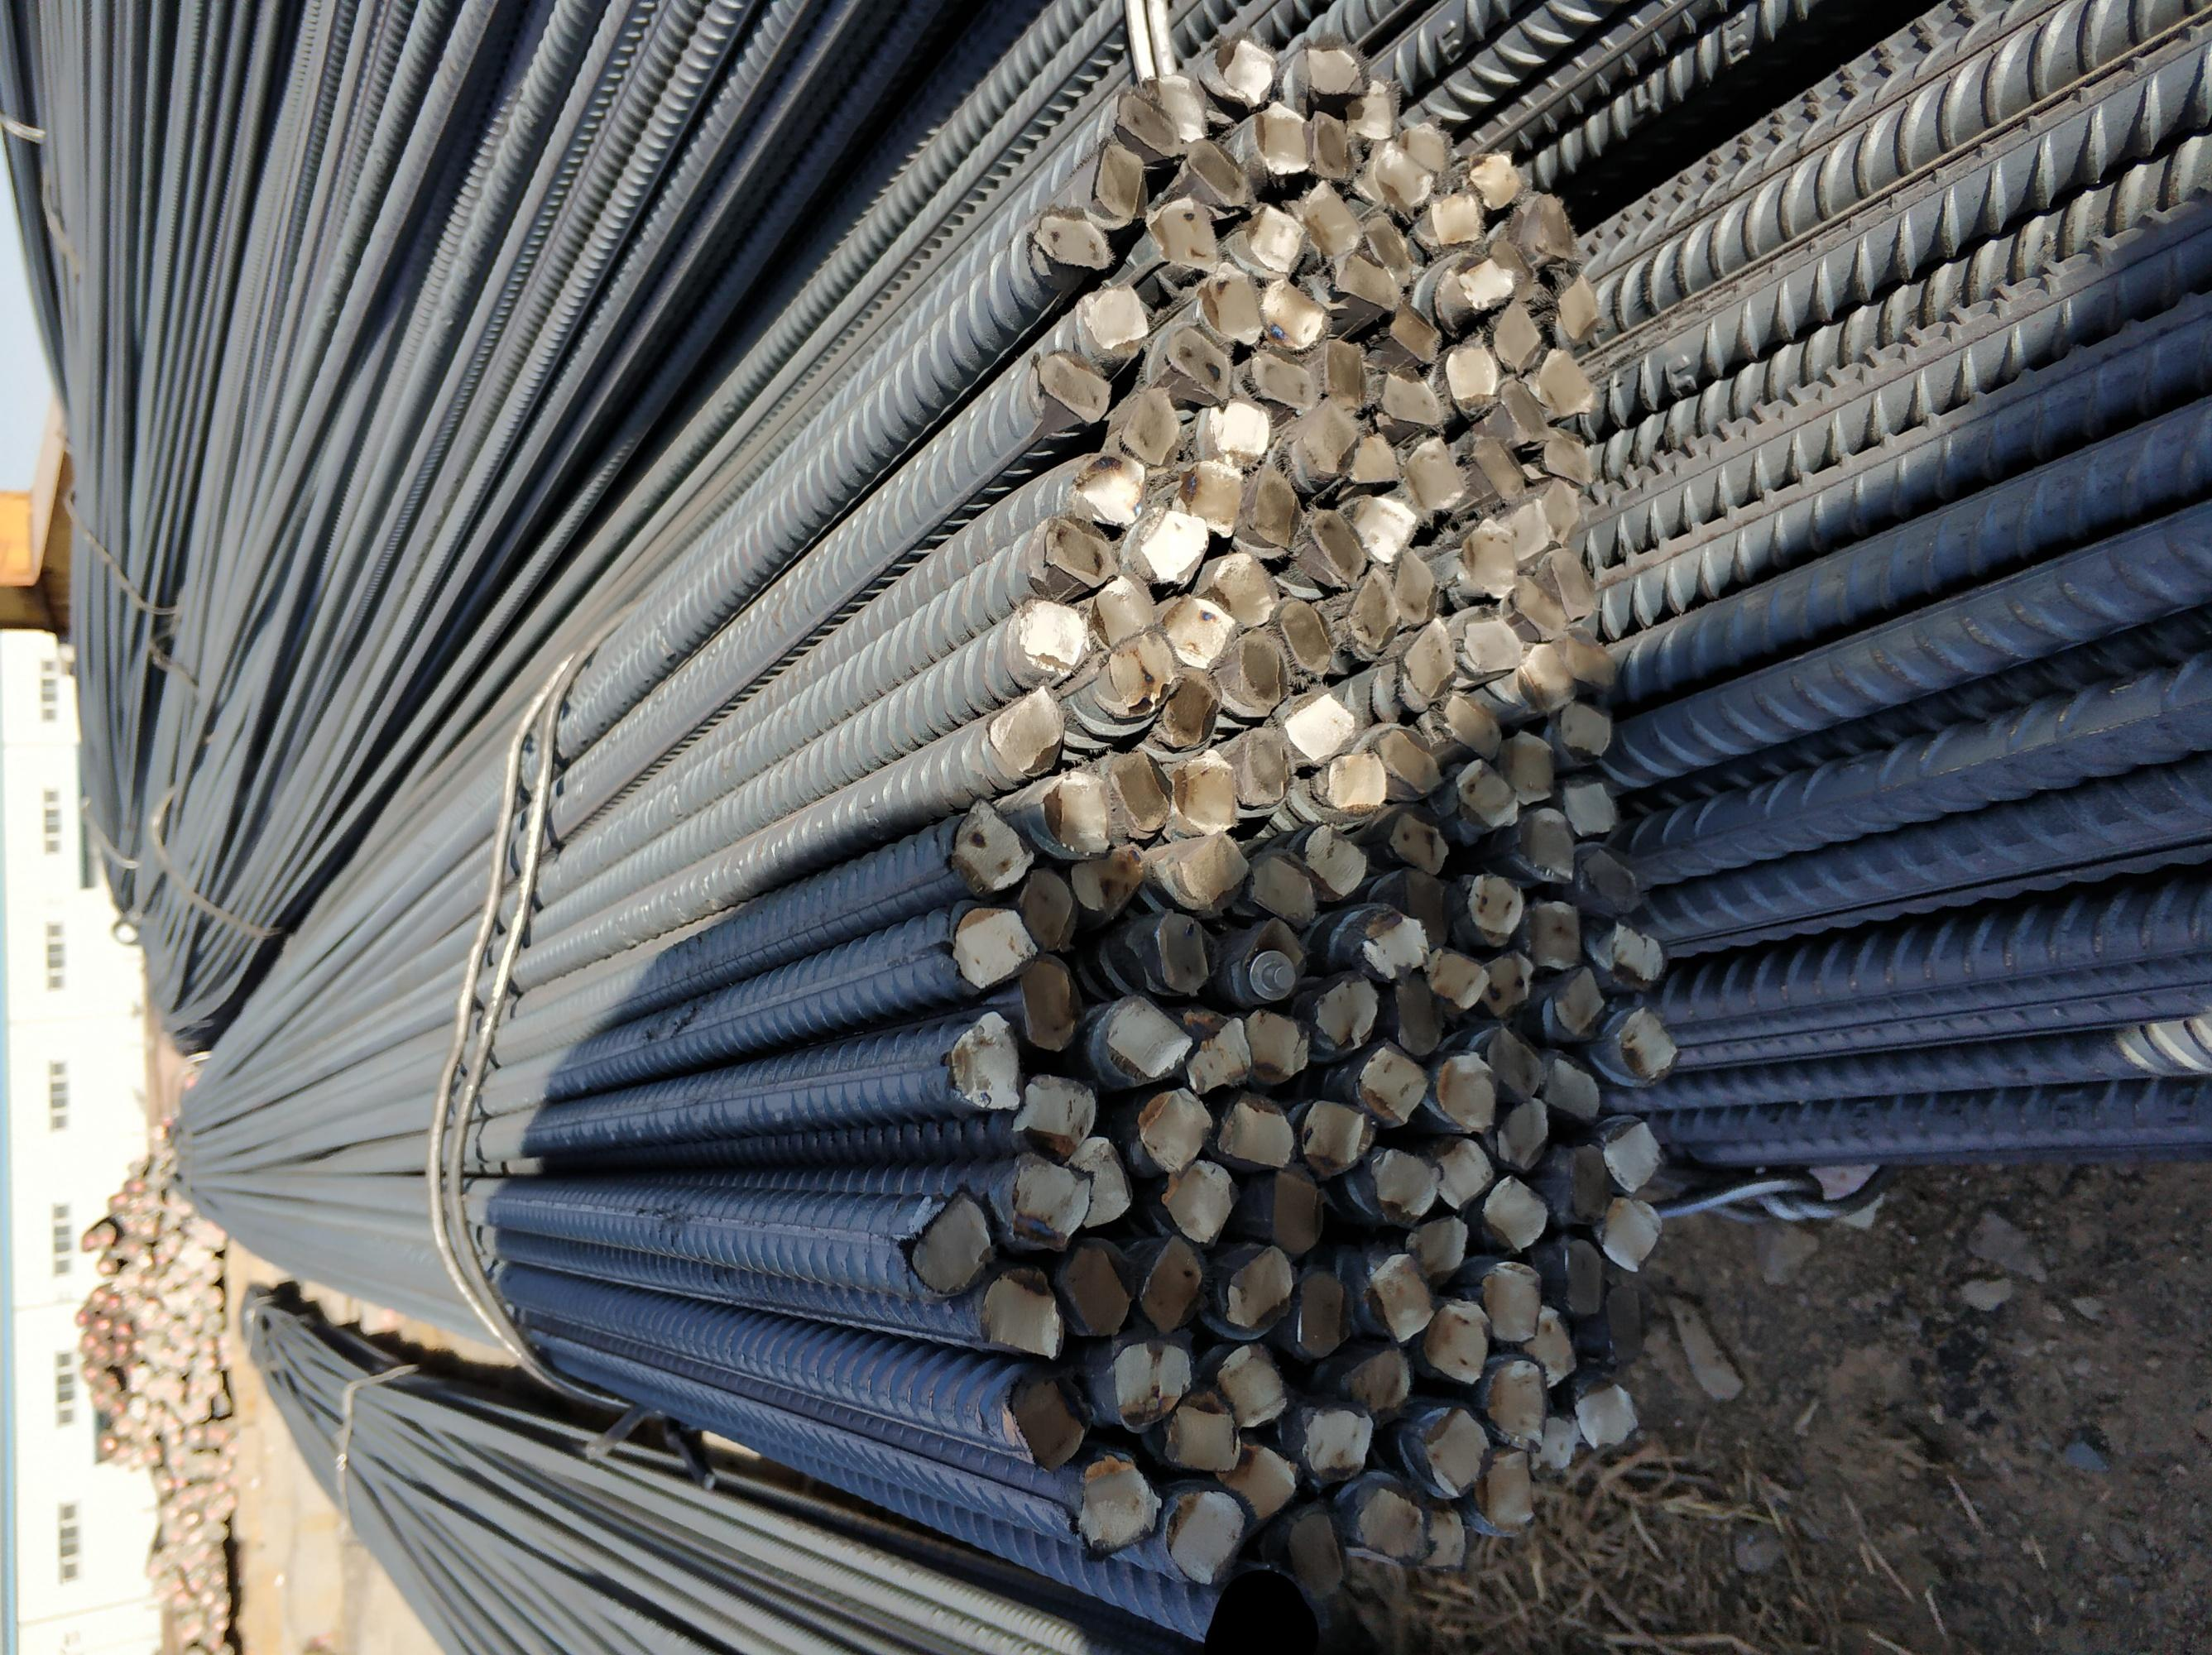bar: (907, 1182, 994, 1299), (947, 791, 1036, 892), (1105, 1333, 1192, 1434), (1074, 1455, 1161, 1556), (1008, 1151, 1093, 1250), (978, 1264, 1065, 1359), (1162, 1486, 1249, 1582), (949, 902, 1039, 991), (983, 680, 1065, 777), (1010, 1375, 1088, 1474), (949, 1008, 1023, 1111), (1011, 1069, 1100, 1154), (1157, 1156, 1242, 1245), (1213, 1434, 1301, 1518), (1420, 1299, 1496, 1394), (1018, 947, 1086, 1053), (1060, 1133, 1135, 1229), (1056, 1241, 1131, 1337), (1105, 994, 1190, 1078), (1215, 1340, 1291, 1431), (1136, 1233, 1206, 1332), (1136, 1083, 1211, 1175), (1362, 1248, 1434, 1344), (1298, 1095, 1380, 1177), (1296, 1398, 1374, 1481), (1281, 1505, 1350, 1599), (1037, 768, 1112, 855), (1482, 1353, 1550, 1448), (1157, 591, 1237, 671), (1215, 1093, 1298, 1170), (1423, 1405, 1491, 1499), (1161, 320, 1235, 403), (1355, 1041, 1428, 1127), (1034, 348, 1114, 424), (1037, 511, 1117, 588), (1136, 506, 1213, 586), (1371, 1144, 1444, 1227), (1263, 1165, 1328, 1259), (1354, 1485, 1428, 1565), (1248, 848, 1321, 930), (1237, 1003, 1308, 1087), (1199, 549, 1274, 628), (1168, 827, 1246, 902), (1152, 906, 1216, 996), (1475, 1443, 1540, 1533), (1107, 624, 1176, 708), (1242, 914, 1312, 998), (1613, 1003, 1682, 1087), (1343, 489, 1421, 562), (1229, 1243, 1293, 1332), (1161, 1403, 1241, 1474), (1298, 819, 1368, 901), (1359, 902, 1428, 984), (1597, 1193, 1665, 1276), (1109, 746, 1173, 833), (1077, 447, 1147, 527), (1336, 1347, 1416, 1417), (1291, 1266, 1350, 1359), (1482, 1172, 1550, 1253), (1088, 137, 1152, 223), (1150, 193, 1222, 269), (1371, 723, 1442, 800), (1173, 455, 1239, 537), (1517, 1306, 1583, 1387), (1402, 435, 1468, 516), (1496, 725, 1560, 808), (1017, 862, 1076, 953), (1178, 751, 1241, 836), (1480, 1259, 1543, 1344), (1435, 1048, 1498, 1133), (1571, 1375, 1642, 1450), (1065, 845, 1142, 914), (1034, 203, 1114, 269), (1454, 754, 1520, 834), (1142, 71, 1215, 143), (1213, 35, 1281, 111), (1343, 562, 1401, 652), (1399, 615, 1460, 701), (1300, 176, 1362, 257), (1114, 87, 1187, 156), (1244, 346, 1319, 414), (1310, 974, 1378, 1048), (1394, 866, 1453, 951), (1251, 97, 1315, 176), (1091, 568, 1156, 647), (1185, 1014, 1249, 1092), (1117, 384, 1178, 466), (1308, 504, 1369, 586), (1458, 516, 1519, 598), (1260, 276, 1328, 349), (1018, 595, 1086, 668), (1296, 396, 1359, 475), (1274, 595, 1334, 675), (1161, 669, 1220, 751), (1371, 134, 1435, 209), (1432, 1137, 1494, 1213), (1580, 838, 1642, 914), (1418, 1497, 1477, 1577), (1185, 136, 1253, 205), (1249, 461, 1303, 548), (1533, 344, 1595, 419), (1519, 636, 1580, 713), (1494, 1093, 1553, 1172), (1439, 690, 1505, 760), (1545, 544, 1602, 624), (1600, 1116, 1665, 1187), (1241, 198, 1303, 271), (1288, 685, 1350, 758), (1524, 897, 1585, 972), (1235, 624, 1289, 708), (1081, 282, 1147, 349), (1402, 1212, 1468, 1279), (1454, 607, 1522, 673), (1420, 946, 1491, 1008), (1559, 1140, 1614, 1220), (1489, 296, 1545, 374), (1333, 249, 1404, 309), (1507, 572, 1566, 645), (1237, 725, 1289, 807), (1388, 972, 1440, 1053), (1607, 918, 1668, 987), (1202, 395, 1268, 457), (1322, 751, 1388, 814), (1541, 1053, 1602, 1121), (1361, 210, 1414, 287), (1494, 497, 1553, 567), (1487, 1026, 1545, 1097), (1213, 268, 1265, 346), (1527, 805, 1580, 883), (1387, 810, 1449, 874), (1479, 947, 1538, 1015), (1559, 694, 1618, 761), (1524, 1413, 1581, 1483), (1314, 334, 1369, 405), (1526, 189, 1581, 261), (1305, 103, 1355, 181), (1602, 1279, 1649, 1363), (1303, 42, 1371, 99), (1470, 433, 1527, 501), (1498, 377, 1553, 445), (1341, 71, 1395, 139), (1470, 873, 1524, 940), (1487, 235, 1541, 302), (1560, 775, 1619, 836), (1380, 370, 1440, 429), (1446, 342, 1500, 409), (1560, 1236, 1606, 1314), (1562, 624, 1614, 692), (1385, 297, 1437, 365), (1538, 473, 1585, 548), (1552, 965, 1602, 1034), (1552, 273, 1600, 344), (1427, 191, 1484, 249), (1454, 256, 1513, 311), (1467, 151, 1522, 210), (1347, 428, 1399, 487), (1540, 433, 1595, 485)
